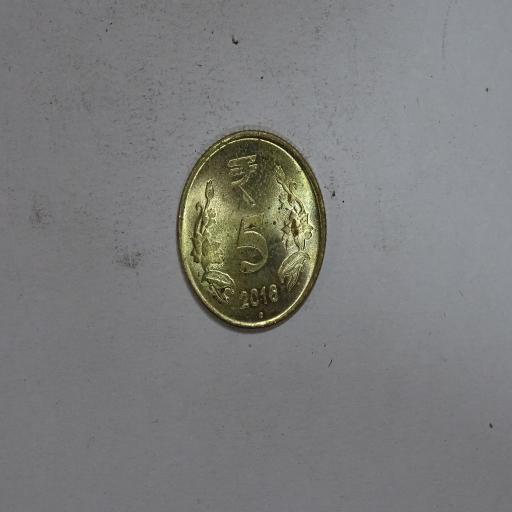rupee5: (174, 129, 327, 329)
